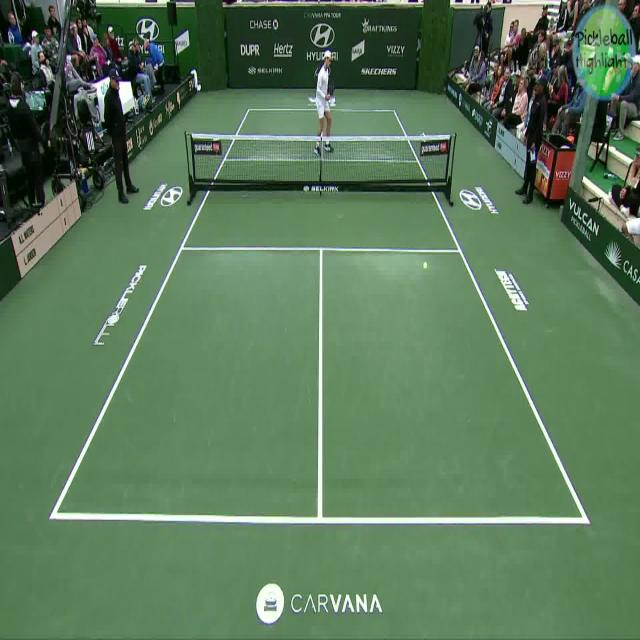ball: (421, 256, 427, 272)
